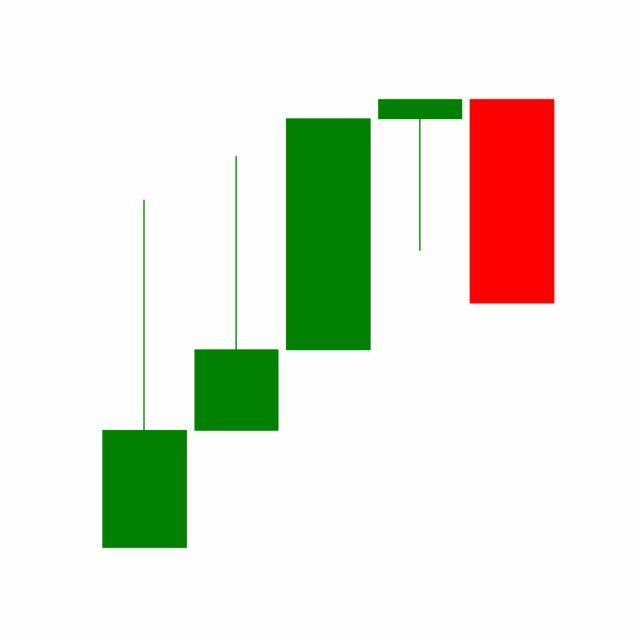Marubozu: (466, 98, 559, 306)
